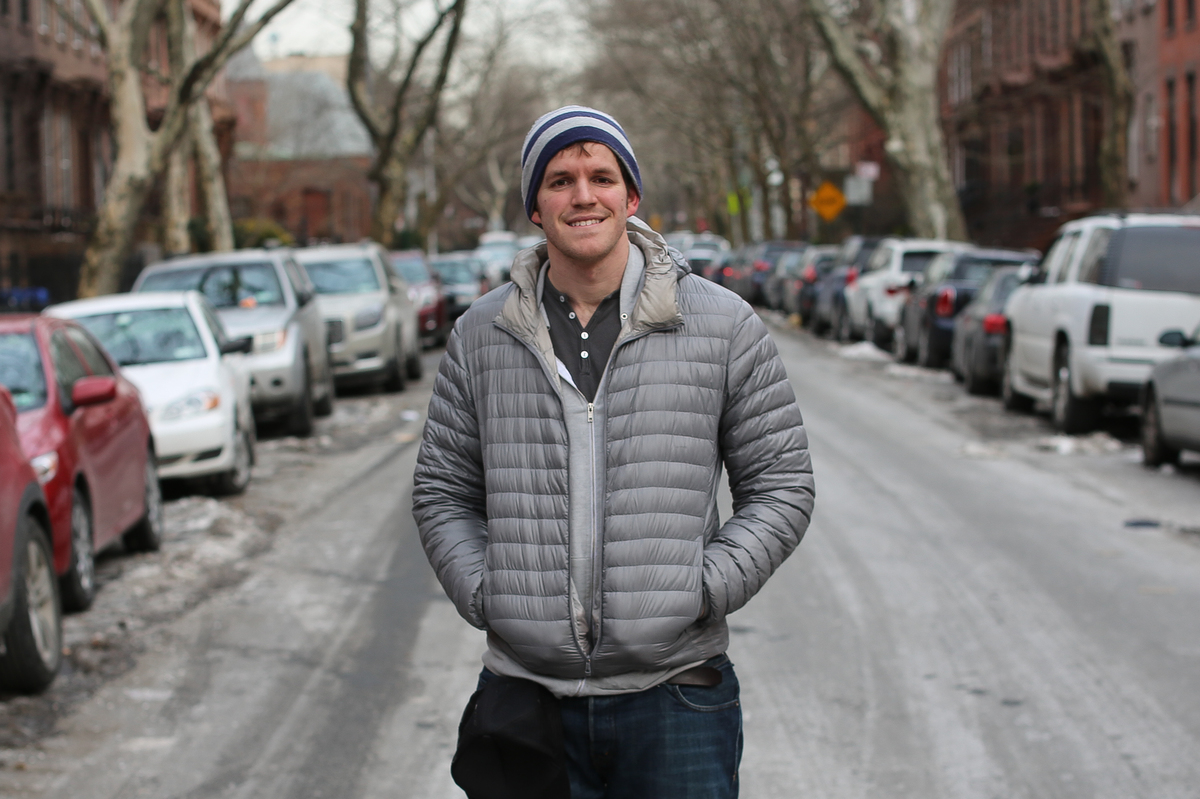Person: (408, 102, 820, 799)
